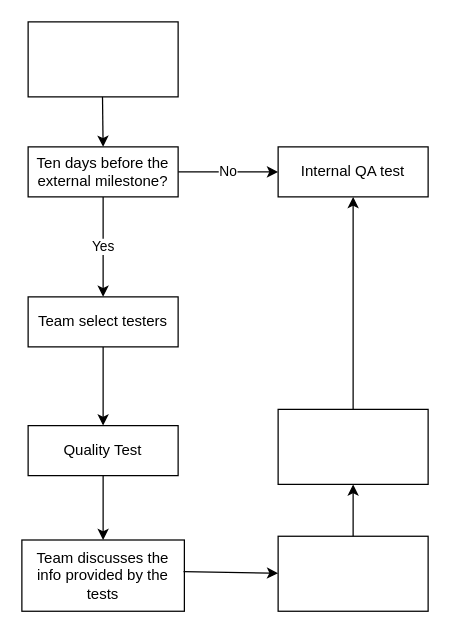
The diagram is 450 pixels wide and 634 high, and some of its shapes have lost their labels. The box of each missing label's shape, as (x1, y1, x2, y2) in pixels:
Agreement about the changes to the game: (277, 535, 428, 611)
Iterate: (277, 408, 428, 484)
Weekly build release: (27, 21, 178, 97)
